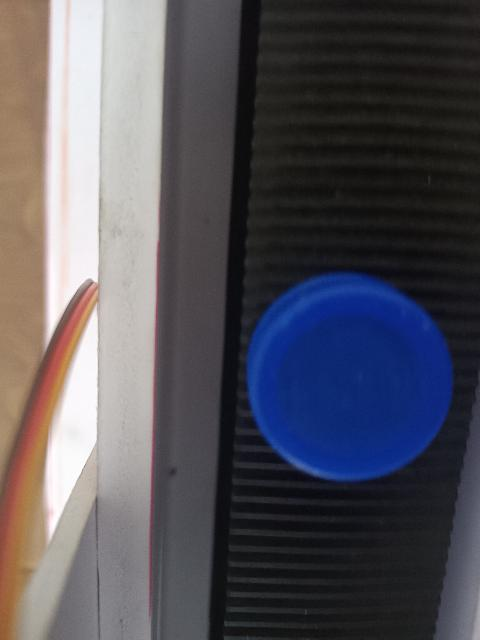bottlecap: (244, 275, 450, 487)
